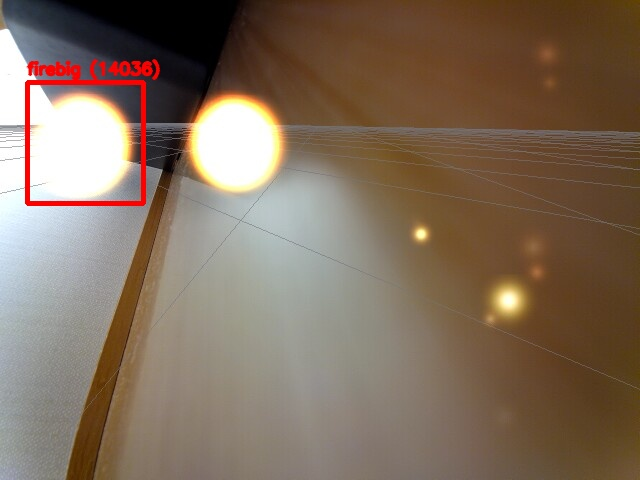firebig: (27, 82, 143, 203)
